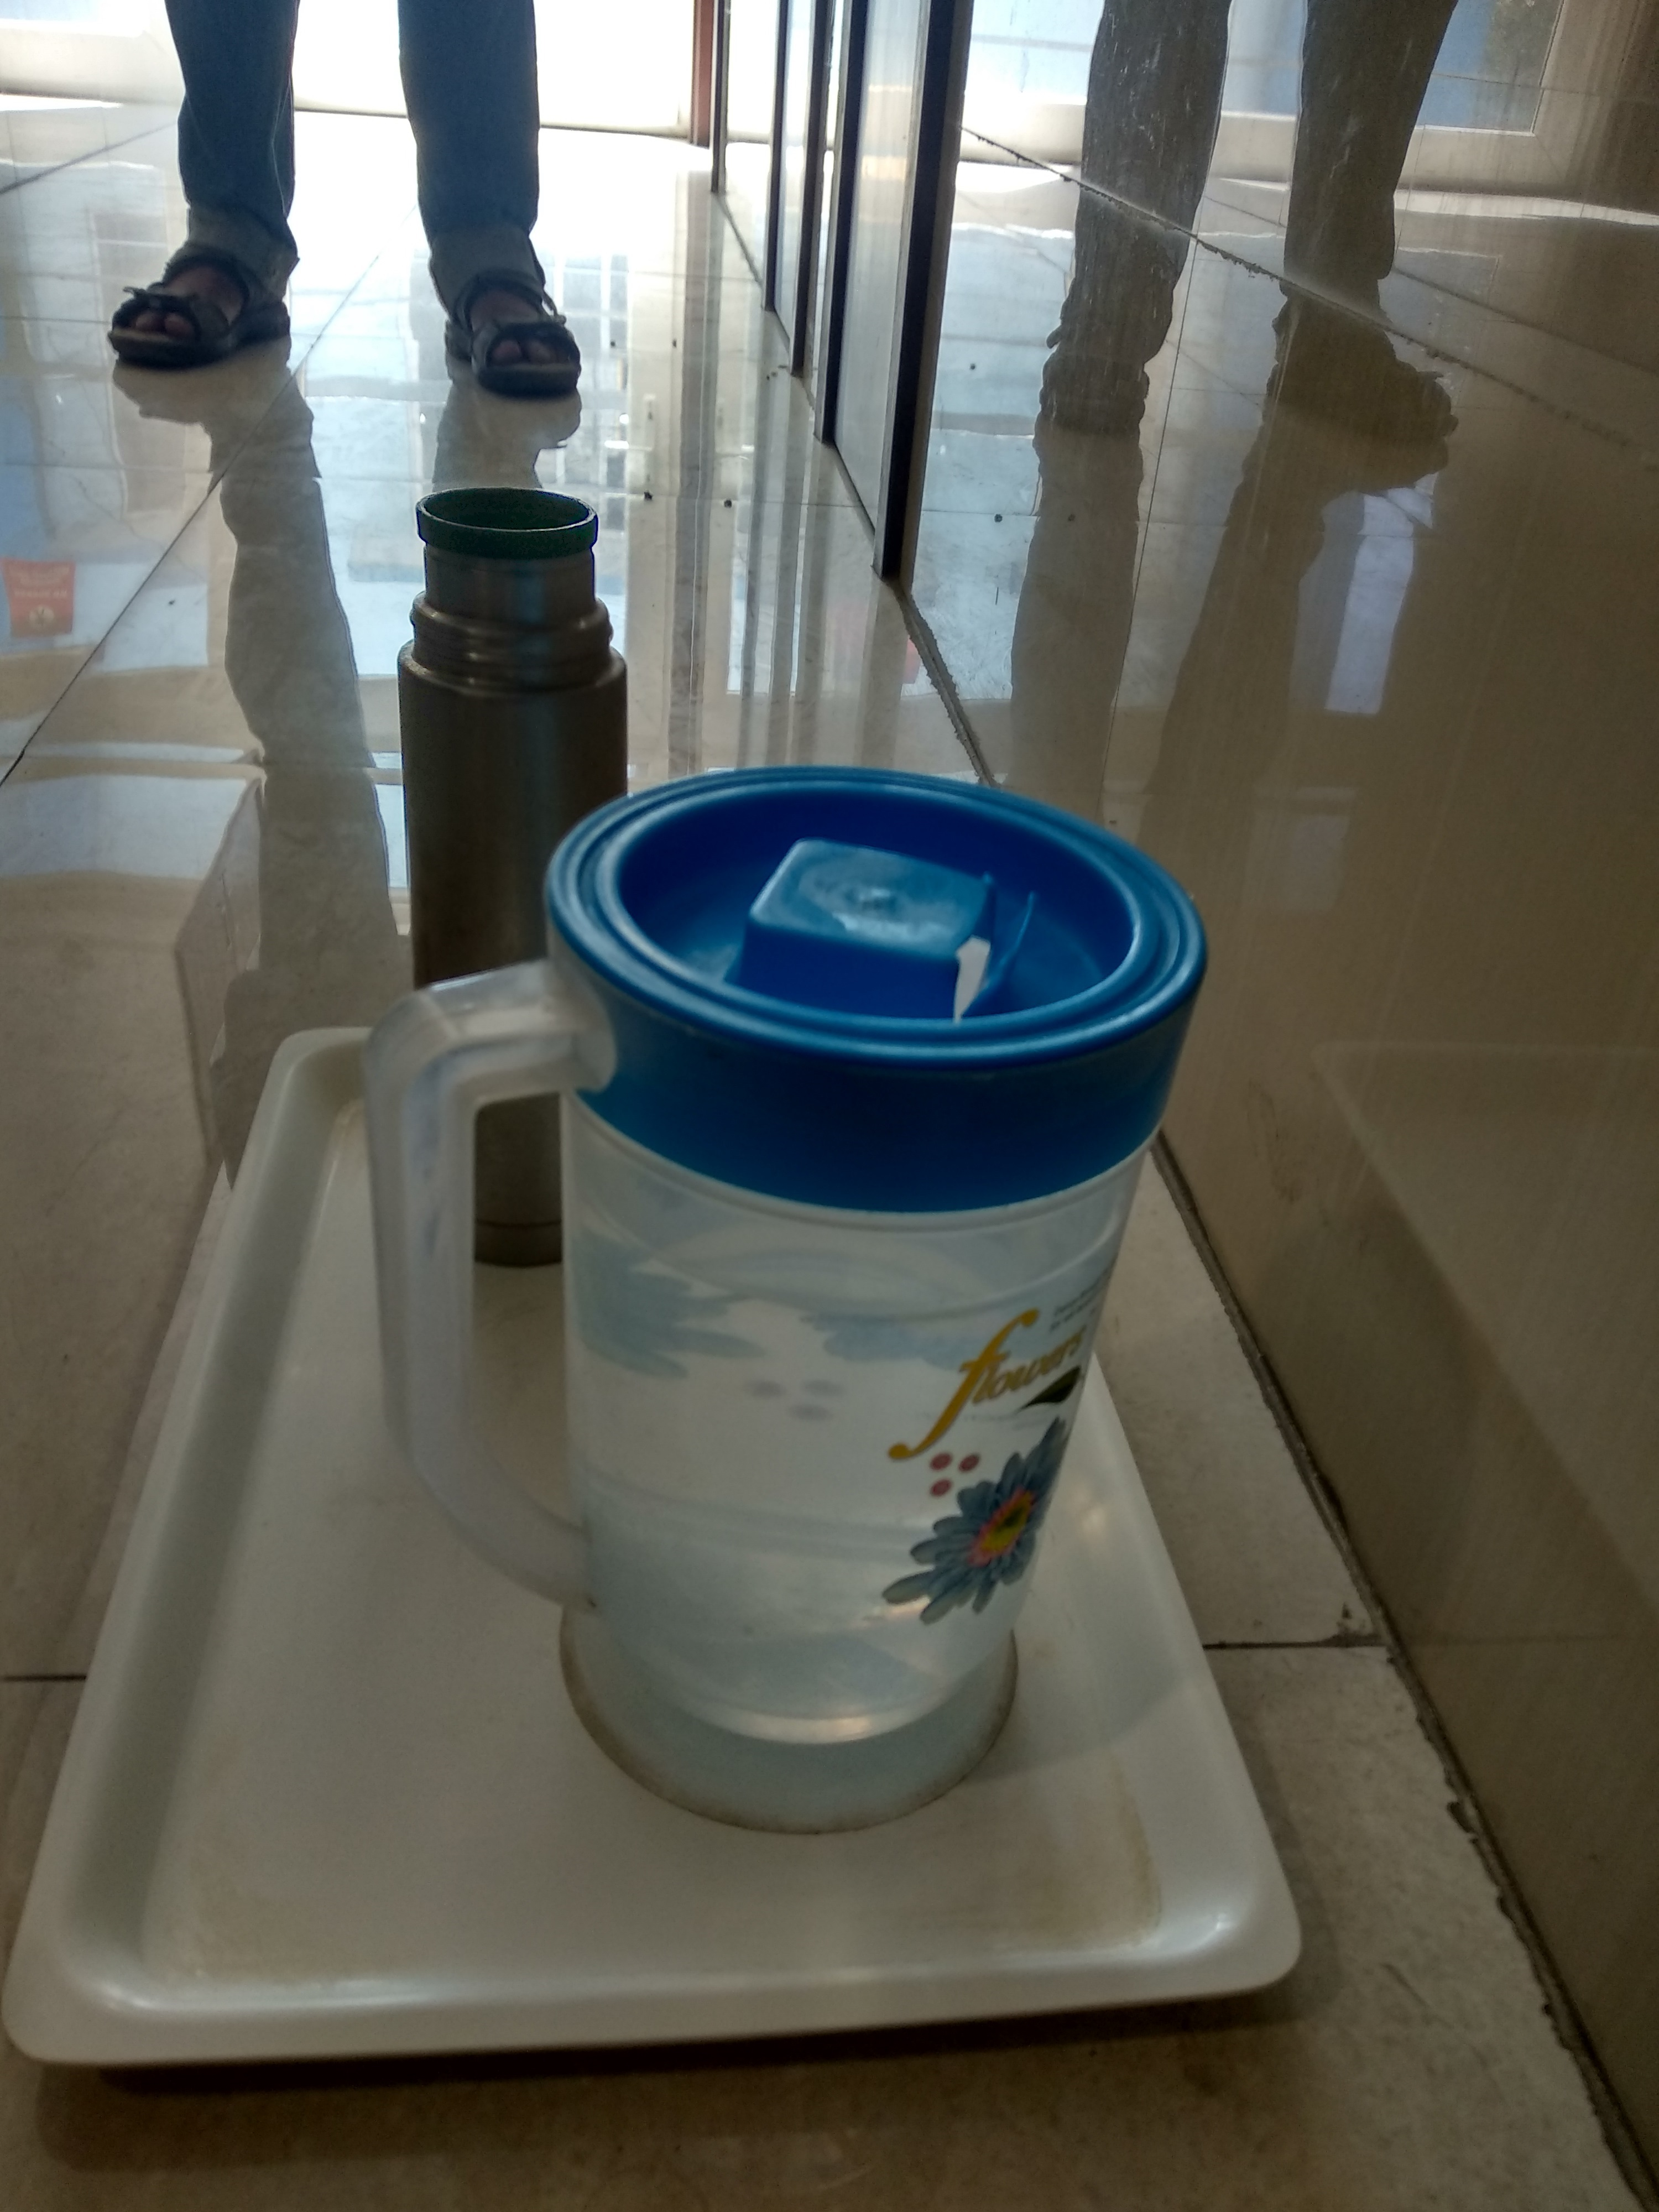FLASK: (354, 462, 636, 1261)
JUG: (329, 725, 1229, 1860)
